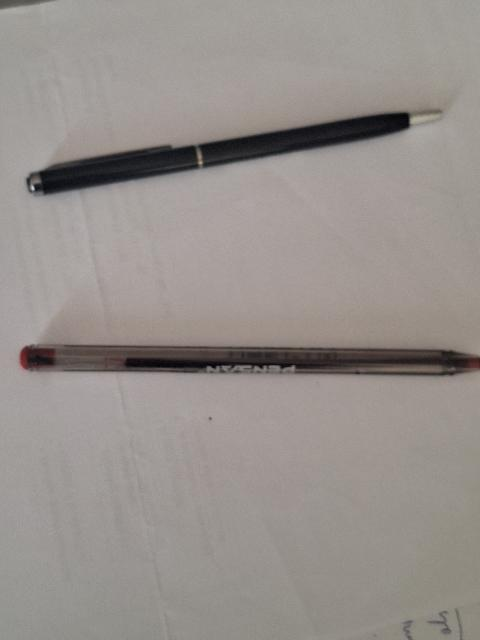writing_tool: (25, 106, 447, 199), (17, 339, 480, 382)
